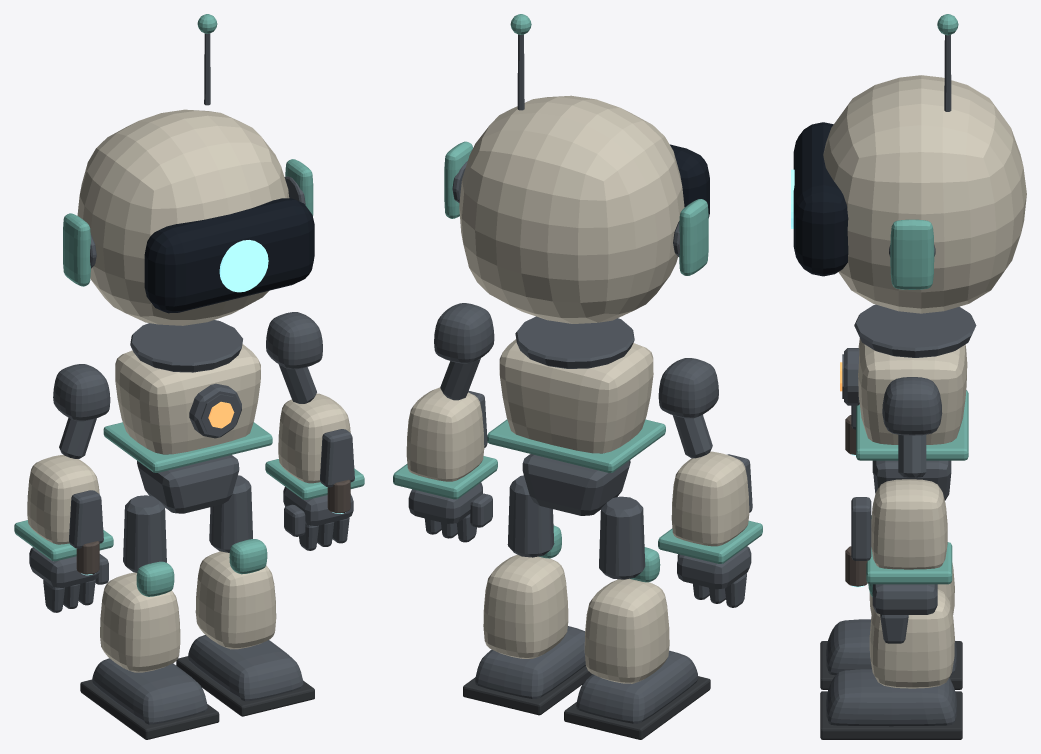
File: antigo.glb
The picture shows the model from 3 angles, left to right: view 1: azimuth 30°, elevation 25°; view 2: azimuth 150°, elevation 25°; view 3: azimuth 270°, elevation 25°; orthographic projection. The views are drawn at different scales.
Parts seen in each view (by area): view 1: cabeca_p.001, visor.001, tronco_p.001, bota.003, bota.002, pe.003, pe.002, gola.001, antebraco.003, antebraco.002, pelve.001, cinto (+25 smaller); view 2: cabeca_p.001, tronco_p.001, bota.003, bota.002, antebraco.003, antebraco.002, gola.001, pe.003, pelve.001, pe.002, coxa.003, cinto (+15 smaller); view 3: cabeca_p.001, visor.001, antebraco.002, tronco_p.001, pe.002, bota.002, gola.001, ombro_p.002, orelha_antigo, sola.002, pe.003, cinto (+10 smaller).
Part boxes in pixels (left/top/right/bottom): cabeca_p.001: left=77, top=109, right=289, bottom=325; visor.001: left=144, top=198, right=314, bottom=313; tronco_p.001: left=115, top=344, right=260, bottom=454; bota.003: left=100, top=572, right=180, bottom=672; bota.002: left=195, top=551, right=276, bottom=649; pe.003: left=92, top=658, right=207, bottom=724; pe.002: left=188, top=635, right=303, bottom=701; gola.001: left=130, top=320, right=242, bottom=372; antebraco.003: left=27, top=455, right=99, bottom=544; antebraco.002: left=278, top=393, right=350, bottom=483; pelve.001: left=137, top=455, right=239, bottom=513; cinto: left=103, top=422, right=272, bottom=472; cabeca_p.001: left=459, top=95, right=684, bottom=323; tronco_p.001: left=499, top=339, right=653, bottom=453; bota.003: left=584, top=578, right=669, bottom=683; bota.002: left=483, top=554, right=568, bottom=658; antebraco.003: left=671, top=451, right=749, bottom=546; antebraco.002: left=406, top=387, right=484, bottom=481; gola.001: left=515, top=316, right=634, bottom=368; pe.003: left=576, top=650, right=698, bottom=723; pelve.001: left=522, top=454, right=630, bottom=515; pe.002: left=475, top=626, right=585, bottom=698; coxa.003: left=599, top=496, right=645, bottom=579; cinto: left=487, top=419, right=665, bottom=472; cabeca_p.001: left=823, top=75, right=1026, bottom=313; visor.001: left=793, top=122, right=848, bottom=276; antebraco.002: left=871, top=479, right=947, bottom=569; tronco_p.001: left=858, top=338, right=967, bottom=444; pe.002: left=826, top=669, right=956, bottom=726; bota.002: left=869, top=589, right=954, bottom=688; gola.001: left=854, top=304, right=976, bottom=357; ombro_p.002: left=882, top=377, right=942, bottom=435; orelha_antigo: left=890, top=219, right=934, bottom=289; sola.002: left=820, top=691, right=962, bottom=739; pe.003: left=826, top=619, right=956, bottom=675; cinto: left=856, top=390, right=968, bottom=460.
Size of the model in its own units: 0.654 by 1.3 by 0.3979.
